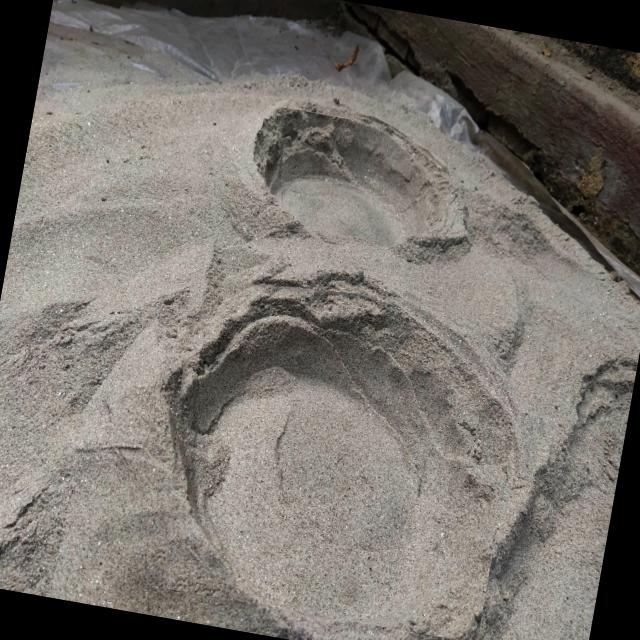C20: (174, 286, 513, 631), (255, 107, 443, 249)
